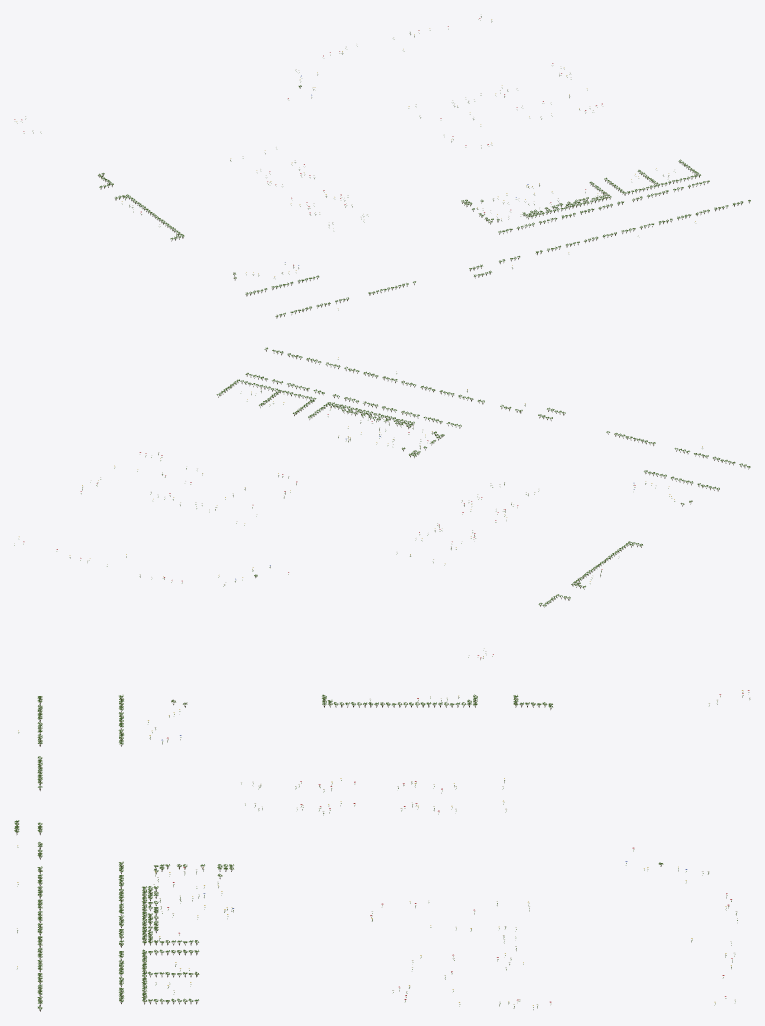
3 renders of one model, top to bottom at view 1: azimuth 30°, elevation 25°; view 2: azimuth 150°, elevation 25°; view 3: azimuth 270°, elevation 25°, orthographic. The views are drawn at different scales.
Parts seen in each view (by area): view 1: GROUND_FLORA_s_-6_2; view 2: GROUND_FLORA_s_-6_2; view 3: GROUND_FLORA_s_-6_2.
Part boxes in pixels (x1,y1,x2,y2): GROUND_FLORA_s_-6_2: [14, 14, 750, 318]; GROUND_FLORA_s_-6_2: [14, 347, 750, 659]; GROUND_FLORA_s_-6_2: [14, 690, 750, 1011].
Bounding box in the file's own units: 128 × 1.91 × 127.
